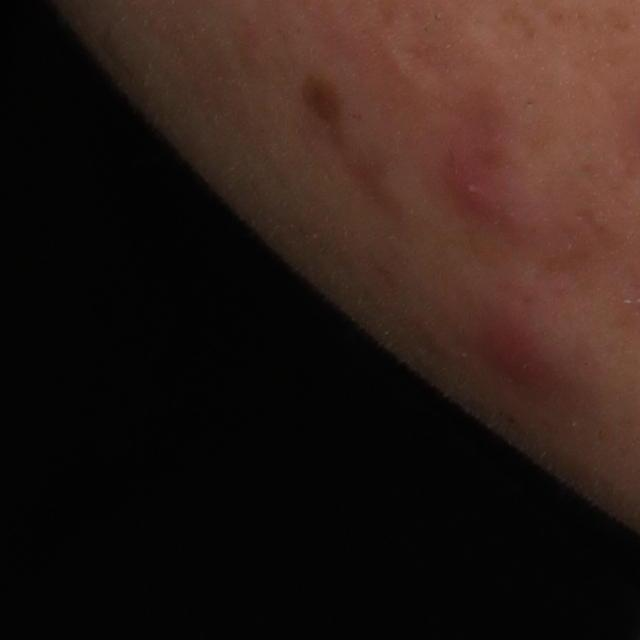nevus: (300, 67, 342, 122)
papule: (480, 318, 552, 397)
